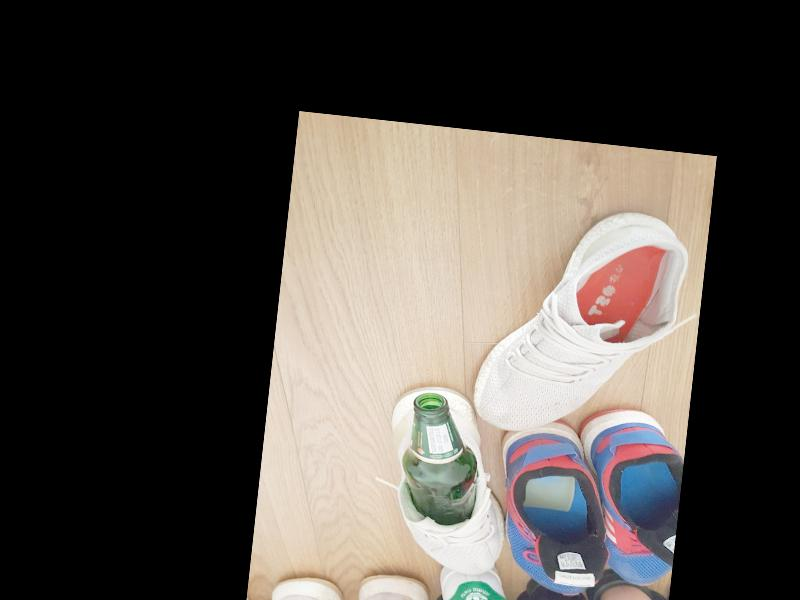Beer: (396, 390, 487, 526)
